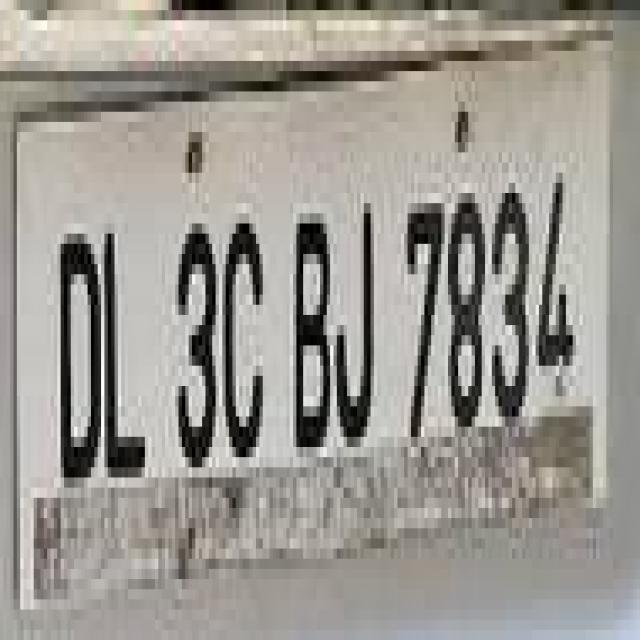license_plate: (0, 51, 616, 569)
